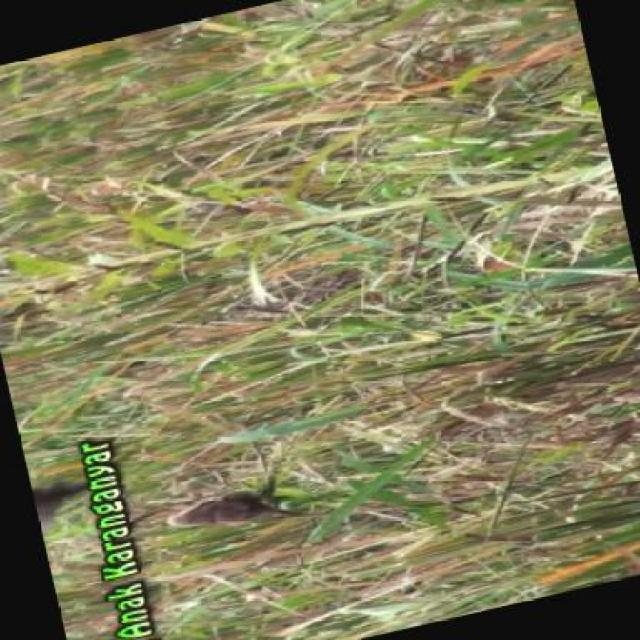Bird: (156, 480, 294, 544)
